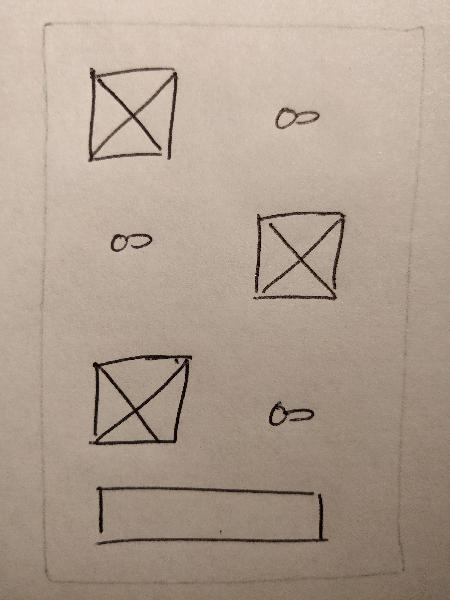image: (240, 202, 354, 308), (81, 61, 186, 169), (85, 352, 196, 453)
switch: (98, 219, 165, 265), (254, 389, 324, 433), (263, 90, 327, 138)
text_input: (87, 477, 335, 557)
